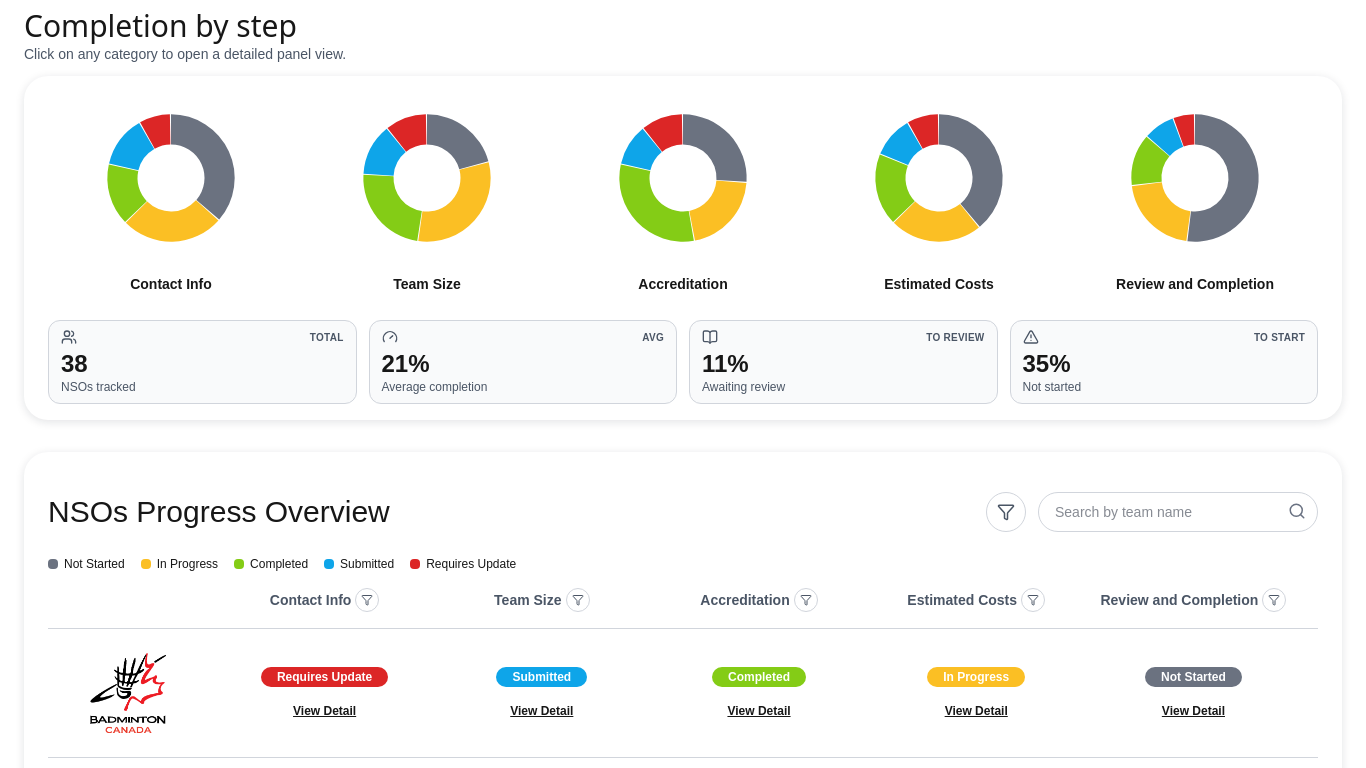
Test case: Dashboard page › opens the status overview panel for the clicked step
What coordinates should you click on to do the following:
click the button "Contact Info"
I would click on:
 (171, 202)
Its box is x1=83 y1=92 x2=259 y2=312.
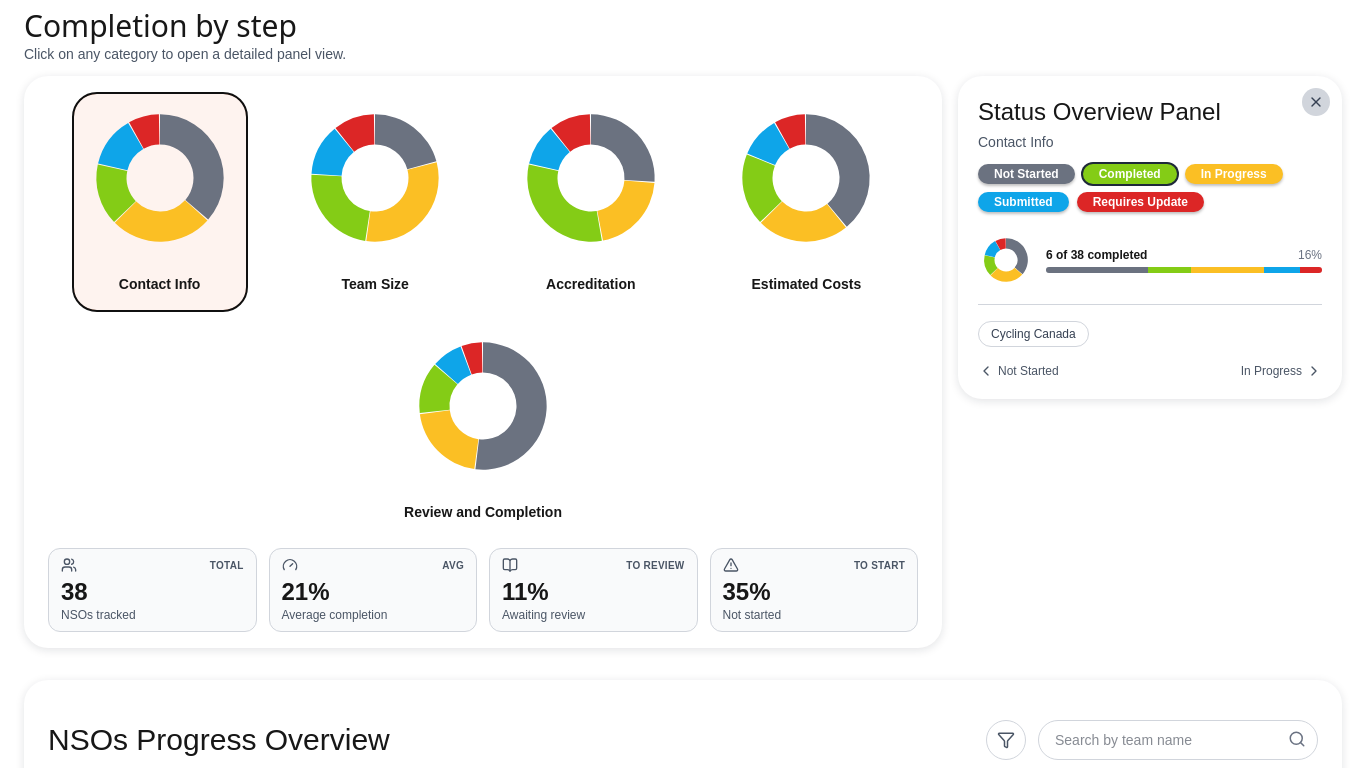
Expected: the element labelled "Status Overview Panel" is shown, x1=958 y1=76 x2=1342 y2=399
Expected: the text "Contact Info" below "Status Overview Panel" is shown, x1=978 y1=134 x2=1054 y2=150
